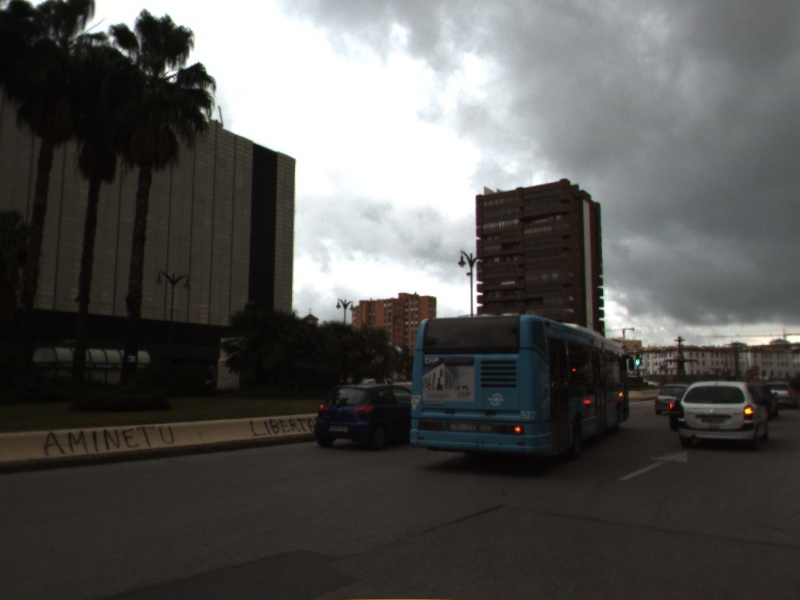STRAIGHT: (617, 449, 690, 483)
